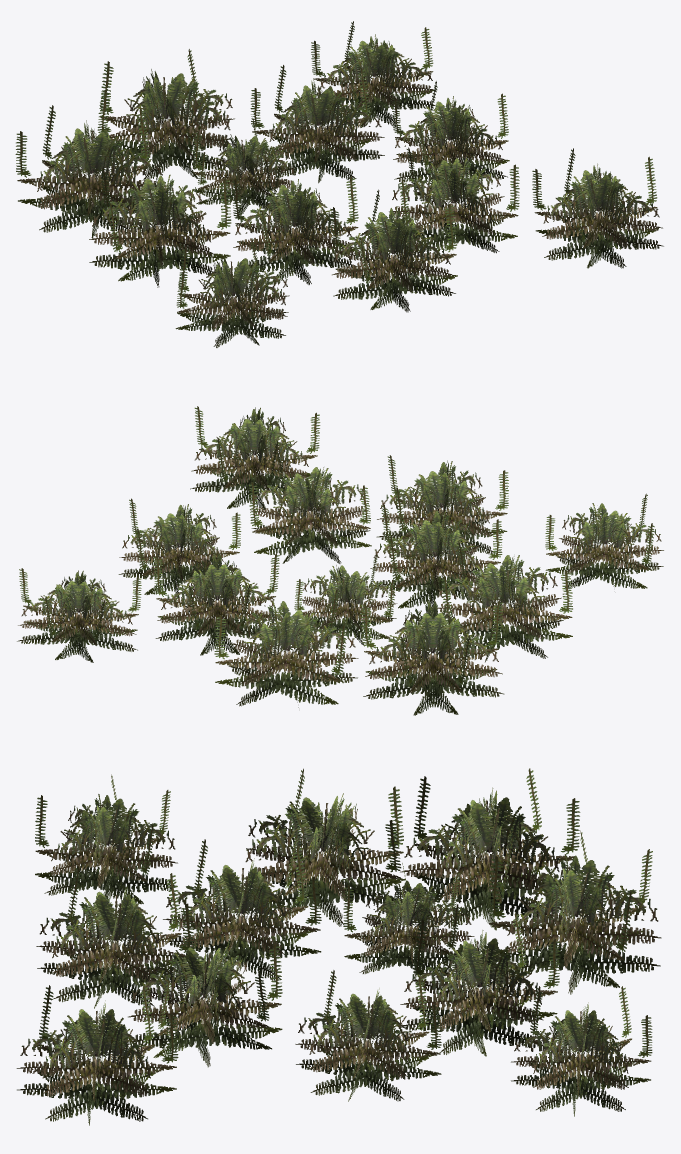
Rendered from grass1.obj.
3 renders of one model, top to bottom at view 1: azimuth 30°, elevation 25°; view 2: azimuth 150°, elevation 25°; view 3: azimuth 270°, elevation 25°, orthographic. The views are drawn at different scales.
Parts seen in each view (by area): view 1: Plane13; view 2: Plane13; view 3: Plane13.
Part boxes in pixels (x1,y1,x2,y2): Plane13: (15,21,663,347); Plane13: (17,406,663,715); Plane13: (16,768,661,1125).
Size of the model in its own units: 2531 by 466 by 2511.
